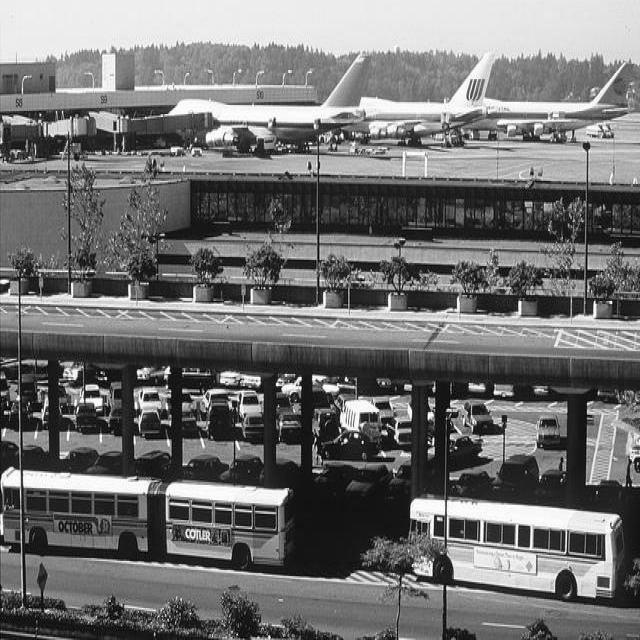vehicle: (1, 359, 567, 502), (0, 456, 302, 568), (407, 494, 623, 604), (339, 397, 385, 447), (460, 402, 493, 435), (207, 400, 233, 440), (536, 412, 563, 448), (237, 391, 262, 424), (276, 411, 302, 442), (202, 388, 234, 412), (138, 388, 164, 416), (138, 406, 160, 437), (74, 401, 96, 431), (241, 412, 263, 440), (182, 407, 197, 437), (107, 382, 121, 412), (108, 406, 122, 429), (43, 405, 49, 423)
